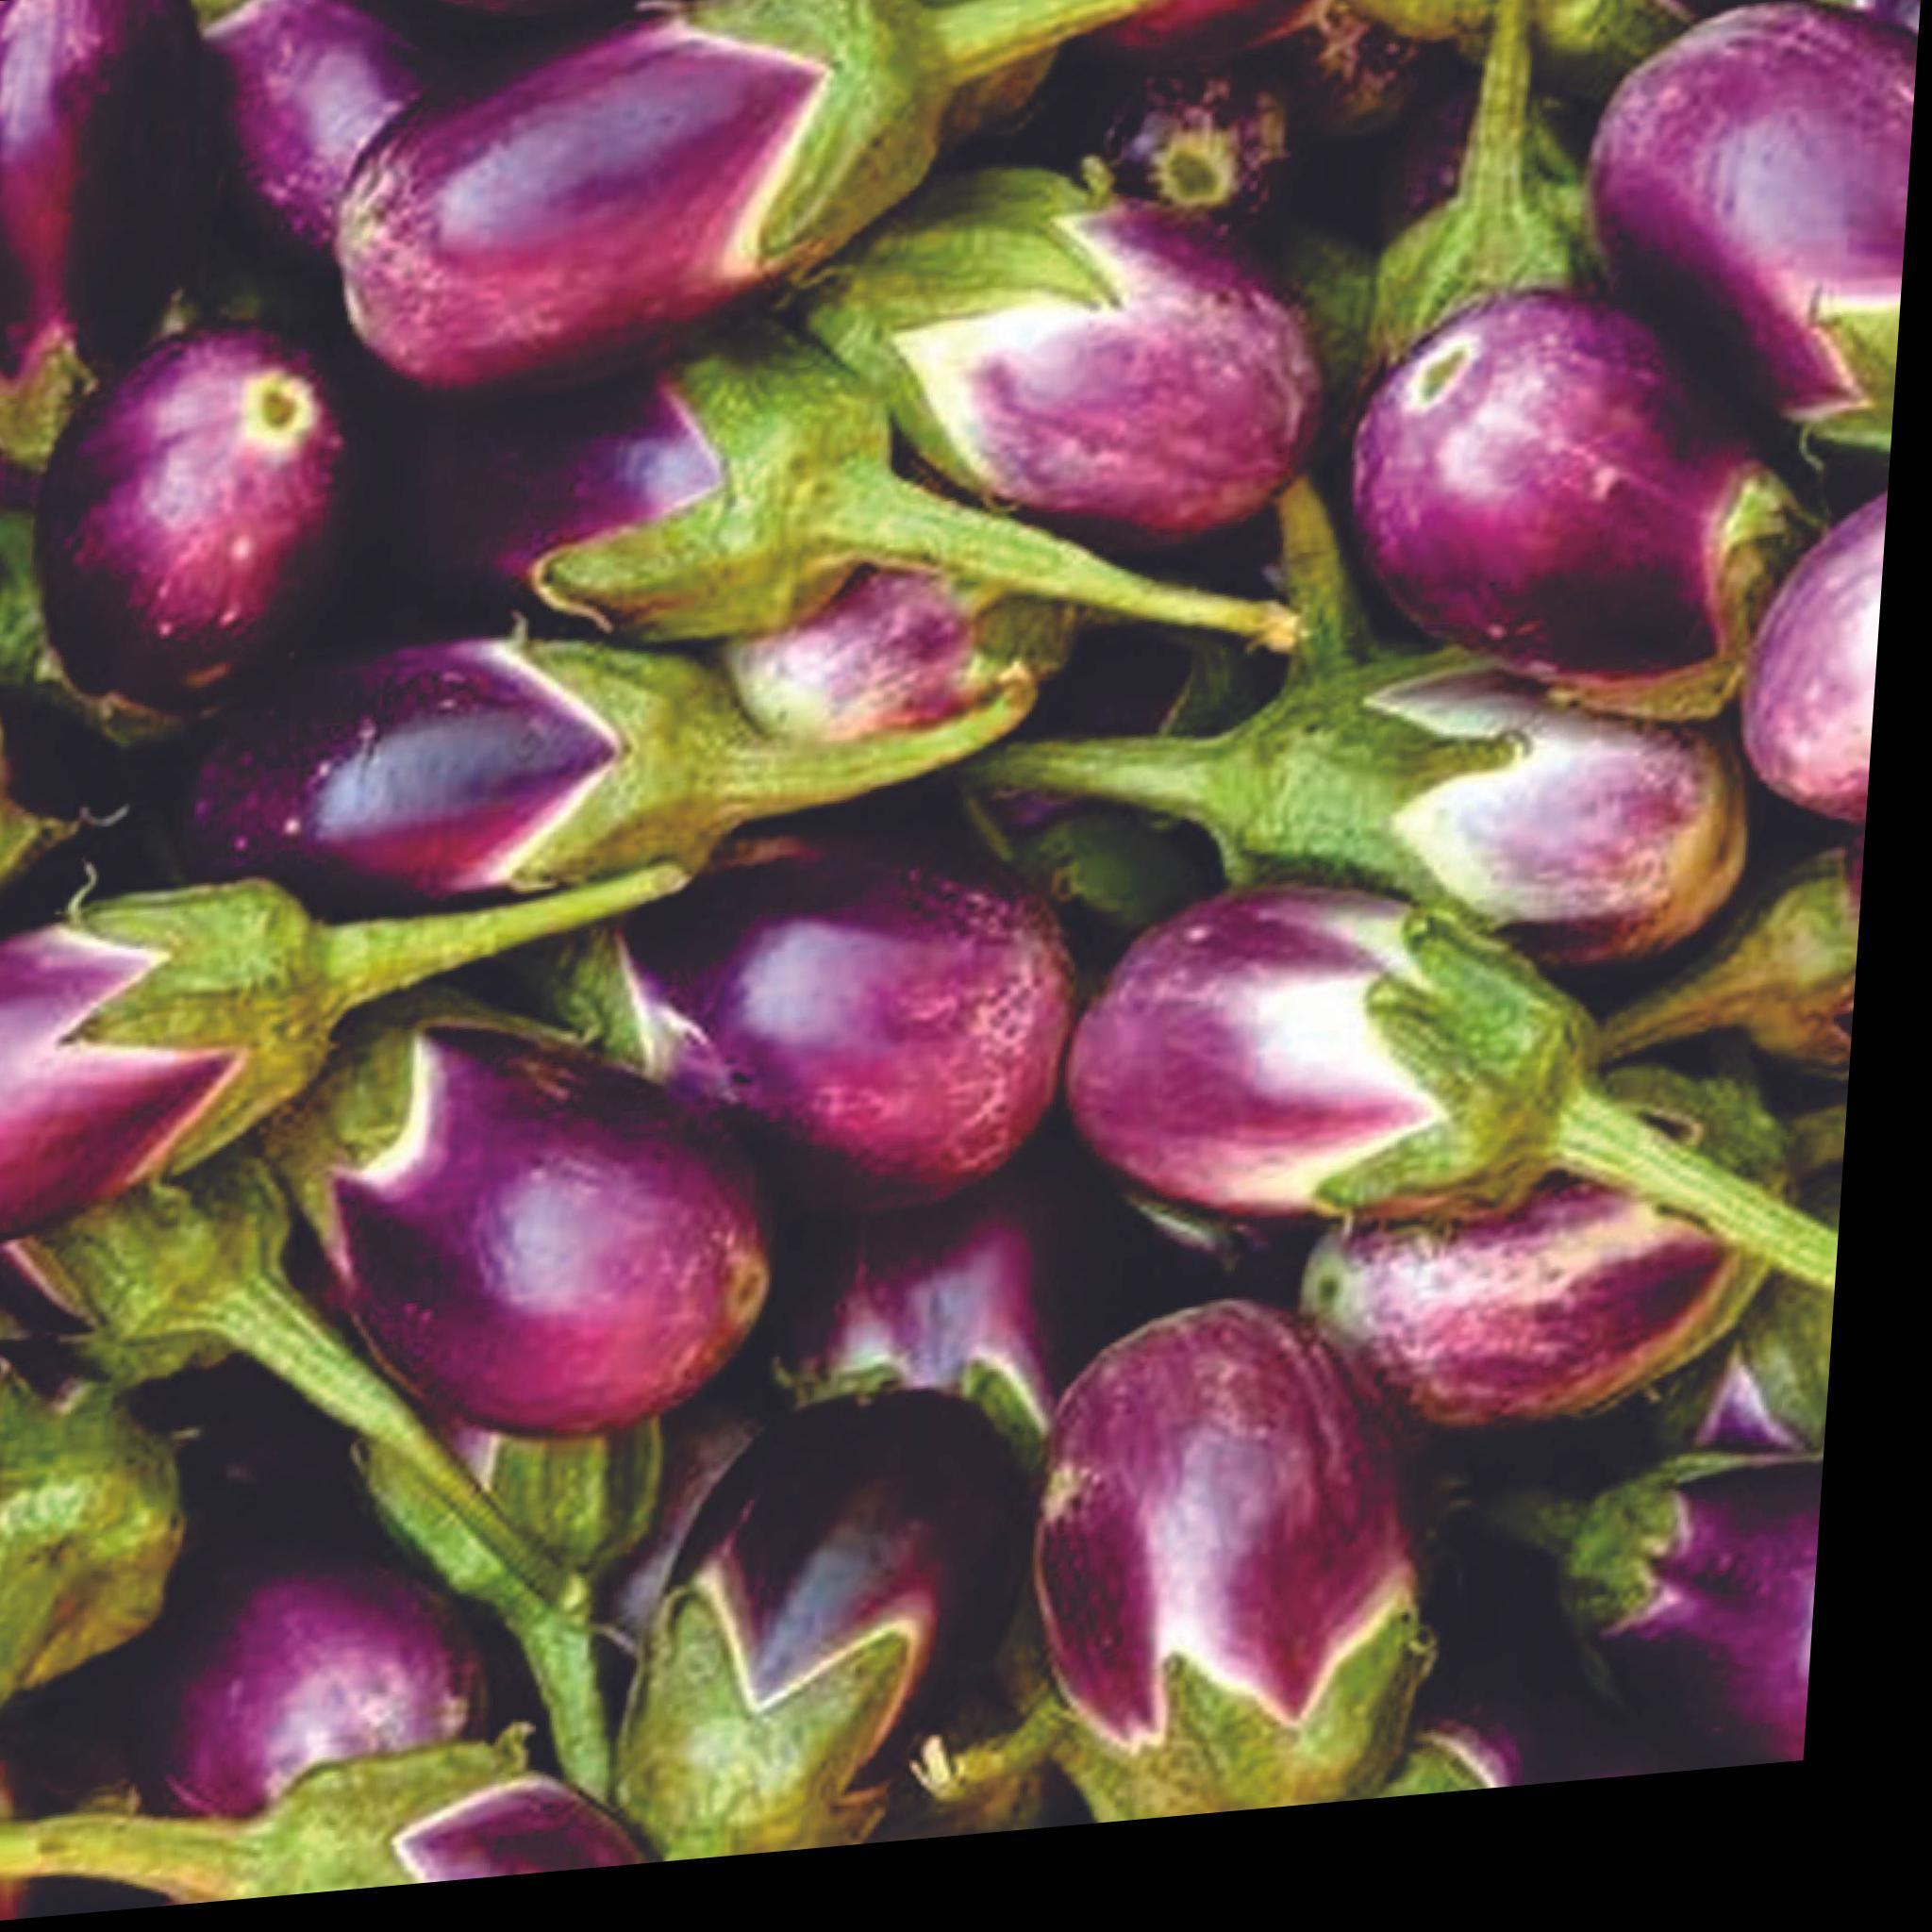eggplant: (0, 0, 1921, 1930)
